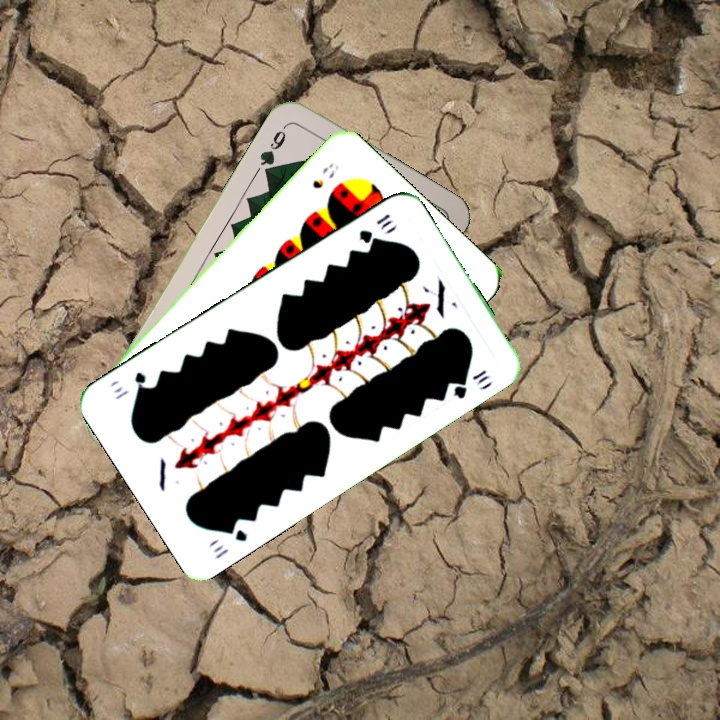G10: (208, 520, 250, 562), (355, 209, 397, 246)
G9: (255, 120, 291, 177)
S8: (308, 158, 342, 191)
